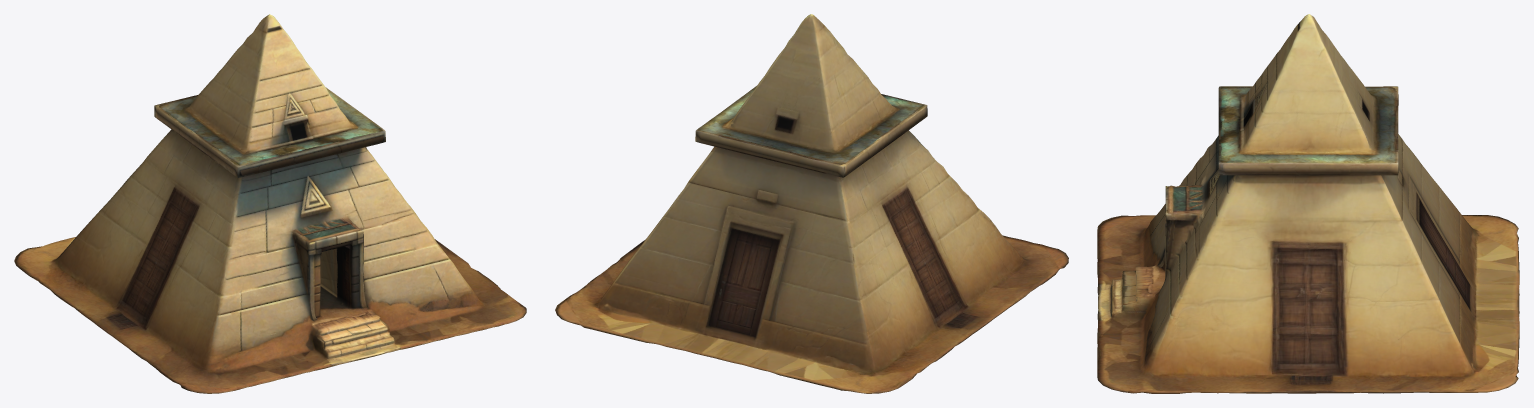
The model's file is i_want_a_low_poly_pyr_0213112756_texture.fbx.
3 renders of one model, left to right at view 1: azimuth 30°, elevation 25°; view 2: azimuth 150°, elevation 25°; view 3: azimuth 270°, elevation 25°, orthographic. The views are drawn at different scales.
Parts seen in each view (by area): view 1: Mesh1_Mesh1.015; view 2: Mesh1_Mesh1.015; view 3: Mesh1_Mesh1.015.
Part boxes in pixels (x1,y1,x2,y2): Mesh1_Mesh1.015: (14,14,526,393); Mesh1_Mesh1.015: (555,14,1068,393); Mesh1_Mesh1.015: (1097,14,1519,393).
Bounding box in the file's own units: 200 × 153 × 201.
1 material, 1 textured.
